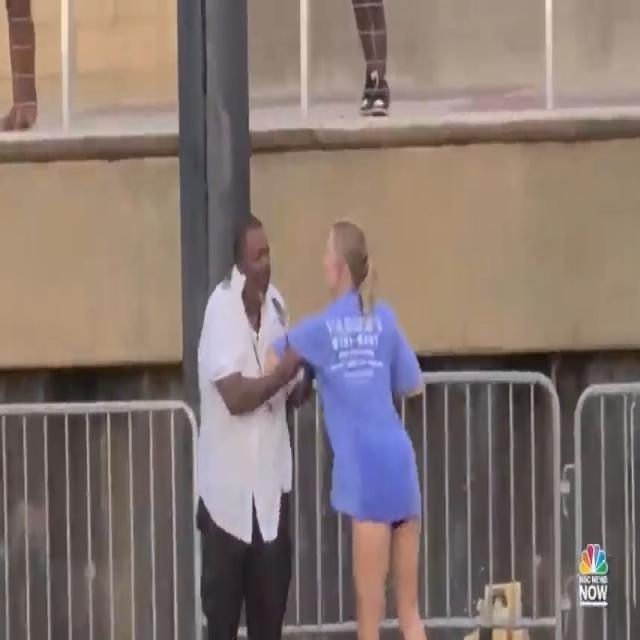fight: (187, 201, 434, 640)
